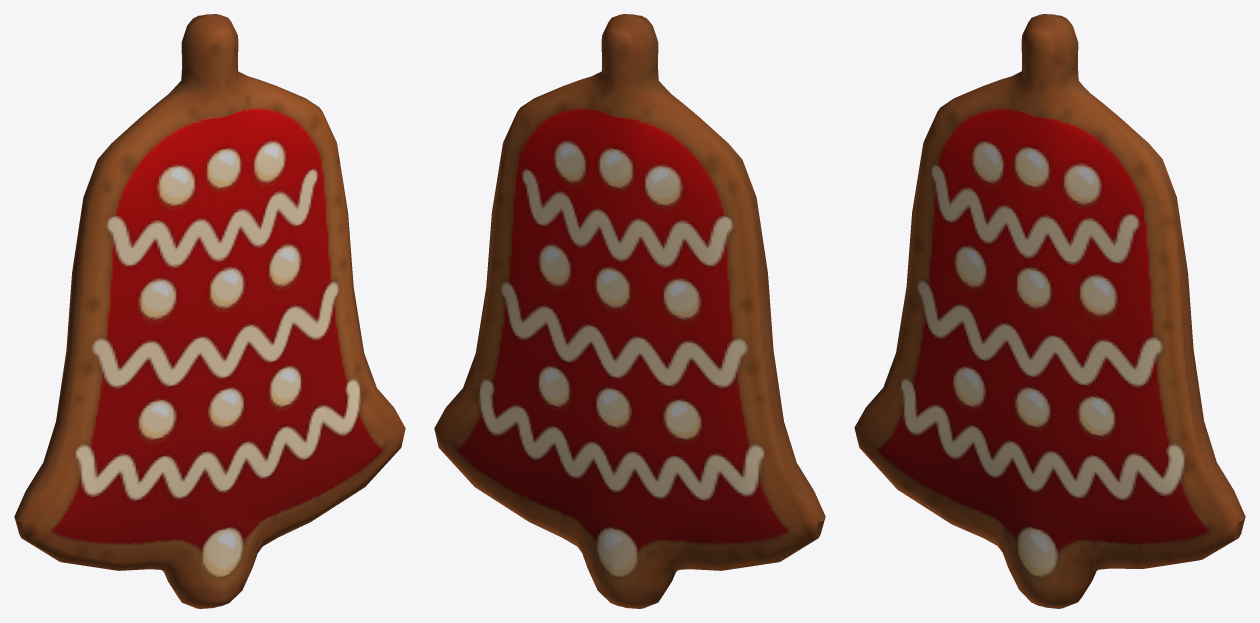
The picture shows the model from 3 angles, left to right: view 1: azimuth 30°, elevation 25°; view 2: azimuth 150°, elevation 25°; view 3: azimuth 330°, elevation 25°; orthographic projection.
Parts seen in each view (by area): view 1: V5_Christmas Collection32_V5_Christmas Collection_0; view 2: V5_Christmas Collection32_V5_Christmas Collection_0; view 3: V5_Christmas Collection32_V5_Christmas Collection_0.
Boxes of the visible parts, x1,y1,x2,y2 form: V5_Christmas Collection32_V5_Christmas Collection_0: [14, 14, 405, 608]; V5_Christmas Collection32_V5_Christmas Collection_0: [434, 14, 825, 608]; V5_Christmas Collection32_V5_Christmas Collection_0: [854, 14, 1245, 608].
Size of the model in its own units: 43.66 by 63.82 by 6.74.
Materials: 1 (1 with a texture image).
